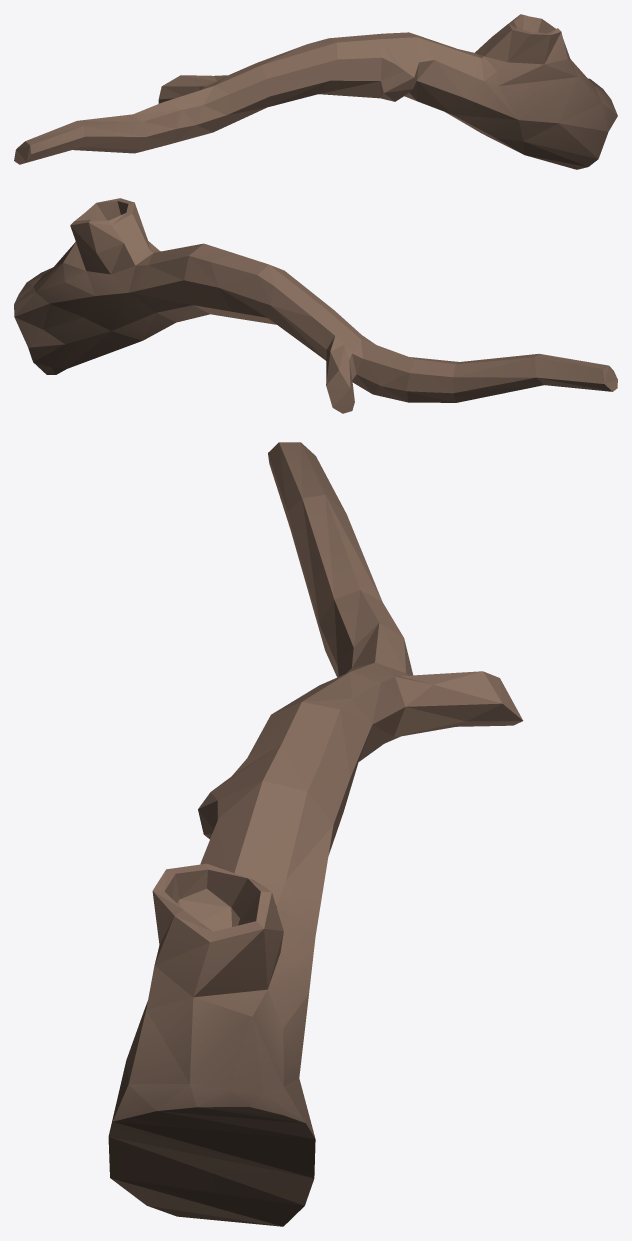
The model's file is Jungle_Branch_C.fbx.
3 renders of one model, top to bottom at view 1: azimuth 30°, elevation 25°; view 2: azimuth 150°, elevation 25°; view 3: azimuth 270°, elevation 25°, orthographic. The views are drawn at different scales.
Parts seen in each view (by area): view 1: Jungle_Branch_C; view 2: Jungle_Branch_C; view 3: Jungle_Branch_C.
Boxes of the visible parts, <box> form: Jungle_Branch_C: <box>14,14,617,169</box>; Jungle_Branch_C: <box>14,198,617,413</box>; Jungle_Branch_C: <box>108,442,523,1226</box>.
Bounding box in the file's own units: 8.73 × 2.37 × 2.79.
1 material, 1 textured.
